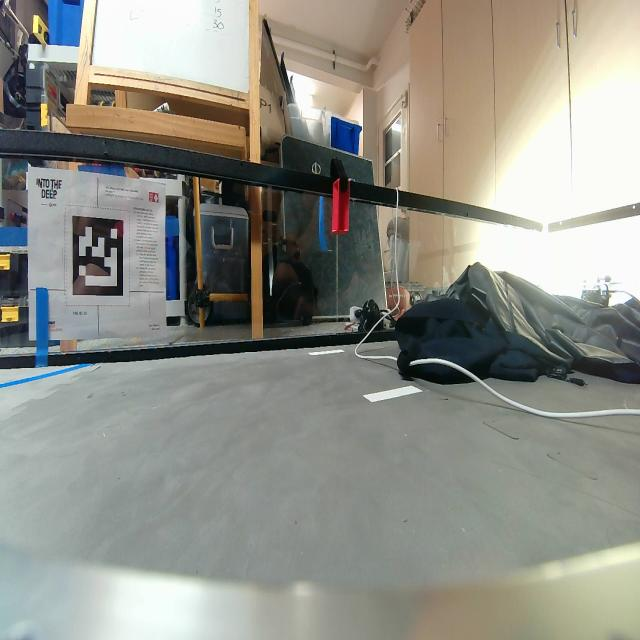specimen_block_red: (333, 172, 352, 236)
